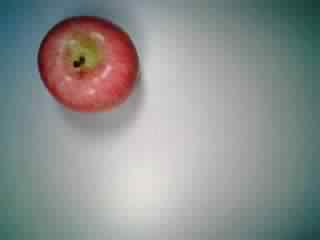apple: (34, 16, 141, 120)
